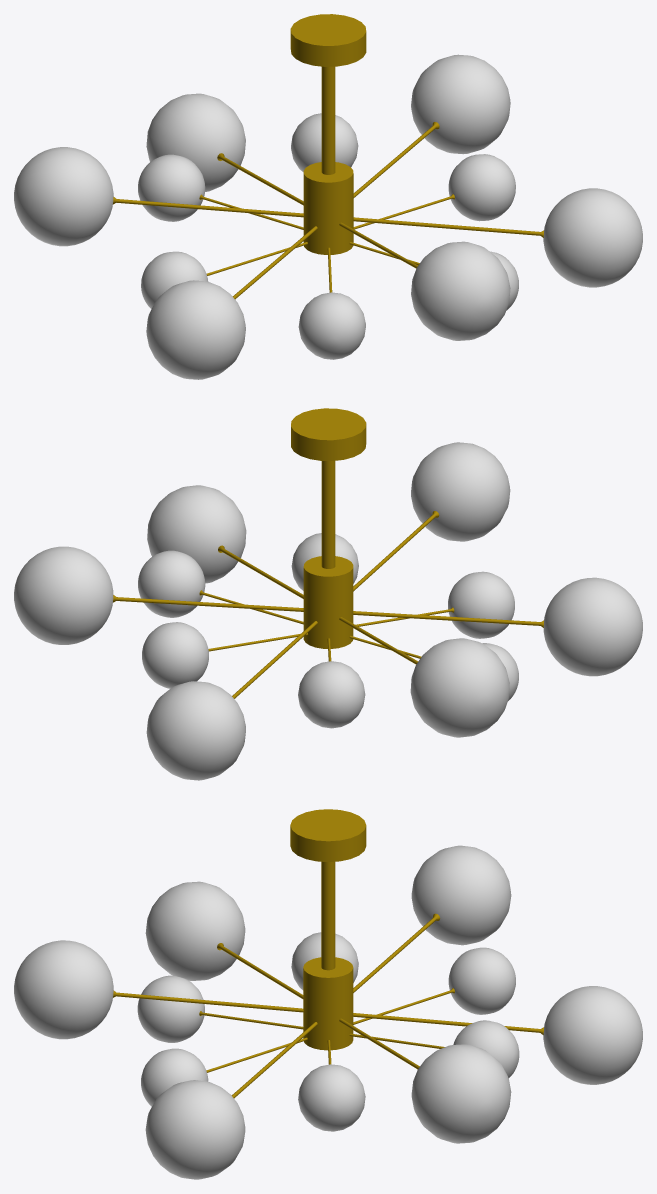
The model's file is chandelier.fbx.
The picture shows the model from 3 angles, top to bottom: view 1: azimuth 30°, elevation 25°; view 2: azimuth 150°, elevation 25°; view 3: azimuth 270°, elevation 25°; orthographic projection.
Parts seen in each view (by area): view 1: mainLight; view 2: mainLight; view 3: mainLight.
Boxes of the visible parts, x1,y1,x2,y2 form: mainLight: [14, 14, 642, 379]; mainLight: [14, 408, 642, 780]; mainLight: [14, 809, 642, 1179].
Bounding box in the file's own units: 0.0855 × 0.0431 × 0.0962.
